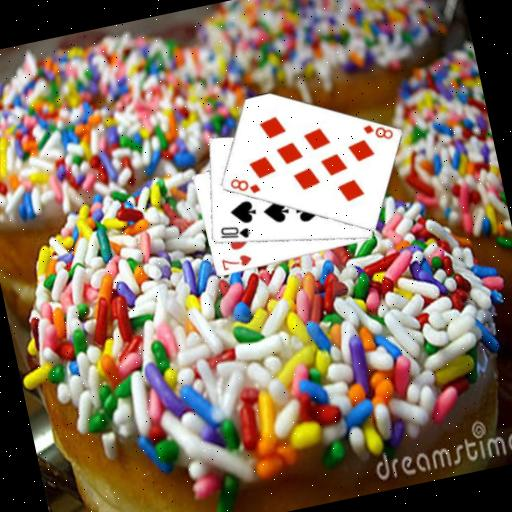10S: (215, 218, 252, 245)
7H: (217, 250, 253, 272)
8D: (226, 170, 263, 200), (358, 117, 395, 146)
